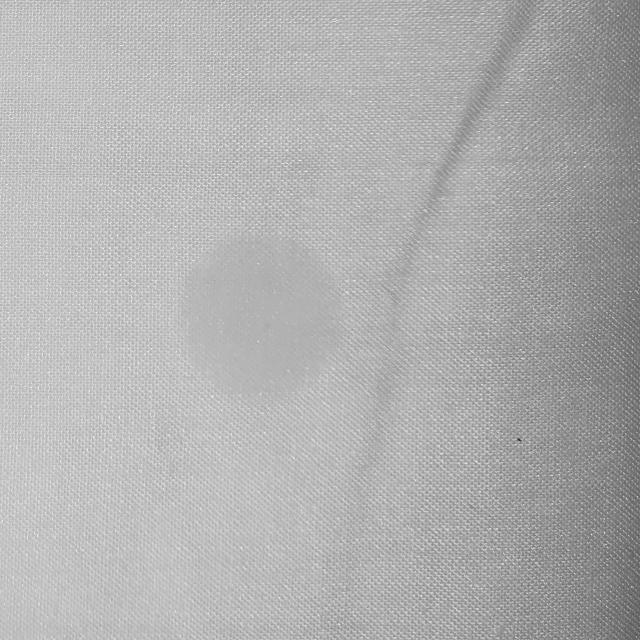Stain: (182, 237, 342, 398)
